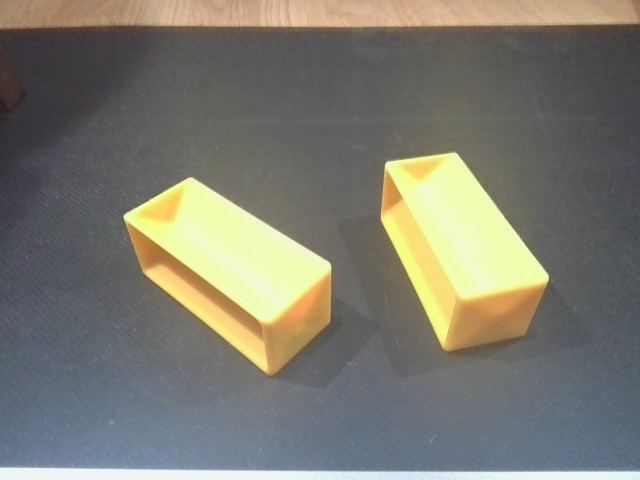YellowSample: (120, 177, 337, 379), (378, 149, 552, 355)
